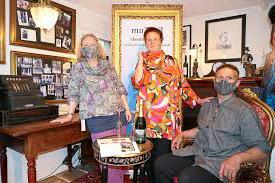mask_weared_incorrect: (146, 38, 159, 57)
with_mask: (215, 72, 234, 89), (82, 41, 97, 54)
